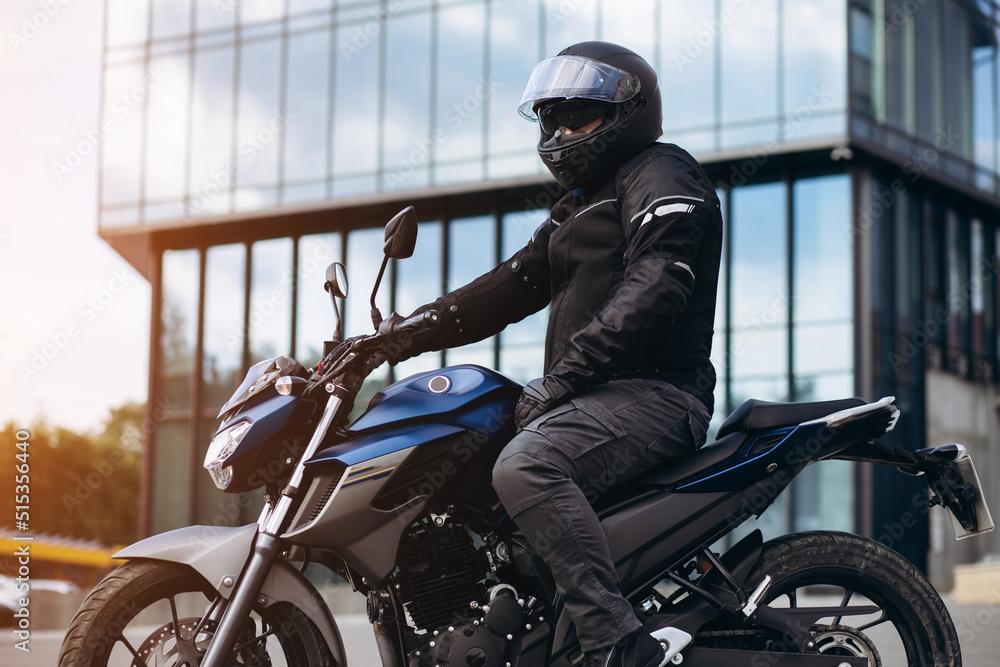helmet: (516, 39, 665, 192)
